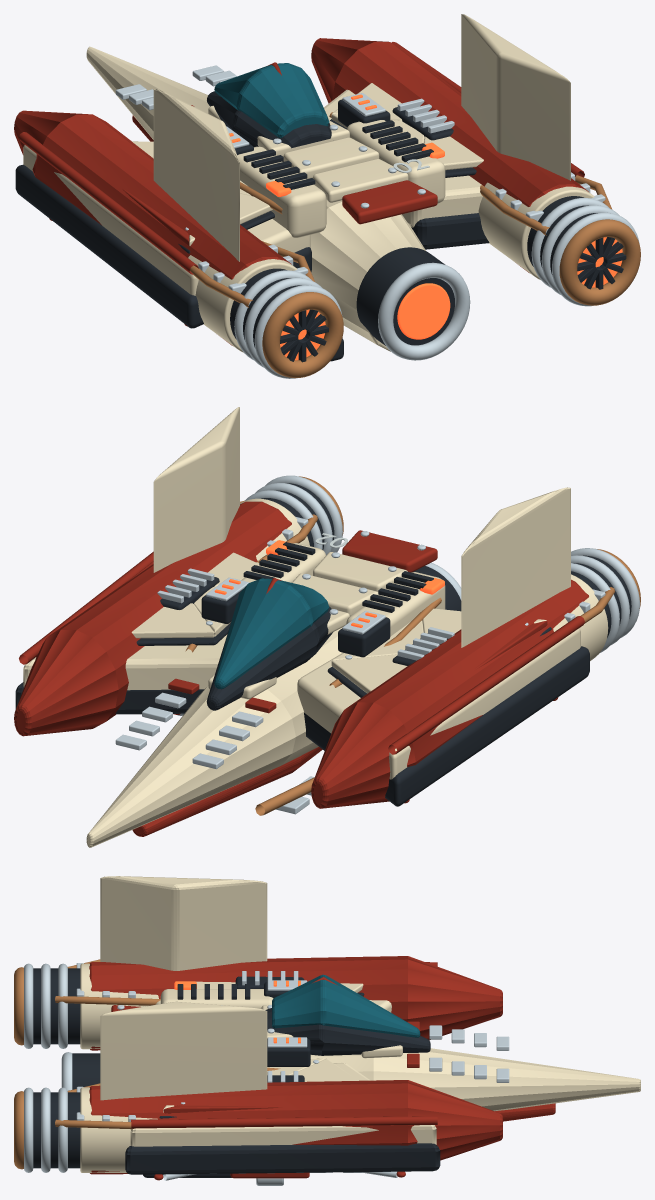
3 renders of one model, top to bottom at view 1: azimuth 30°, elevation 25°; view 2: azimuth 150°, elevation 25°; view 3: azimuth 270°, elevation 25°, orthographic. The views are drawn at different scales.
Parts seen in each view (by area): view 1: SolidHull_02; view 2: SolidHull_02; view 3: SolidHull_02.
Boxes of the visible parts, x1,y1,x2,y2 form: SolidHull_02: (14, 14, 640, 378); SolidHull_02: (14, 407, 640, 847); SolidHull_02: (14, 876, 640, 1185).
Size of the model in its own units: 2.3 by 1.37 by 3.63.
